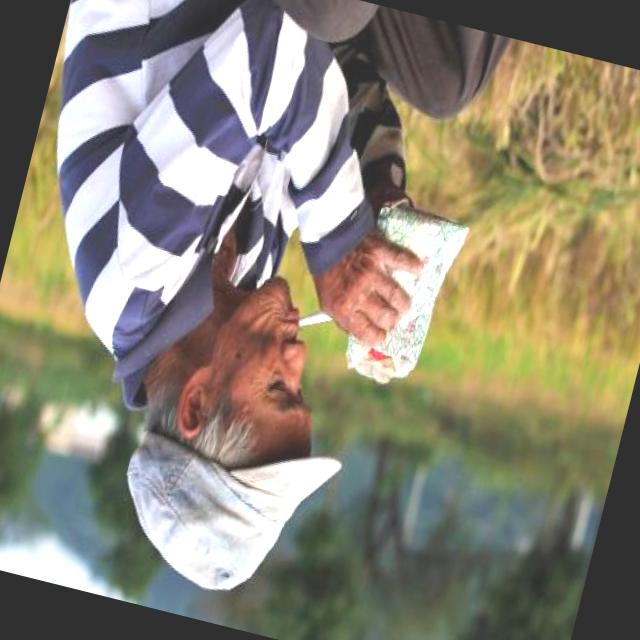smoke: (274, 292, 362, 348)
